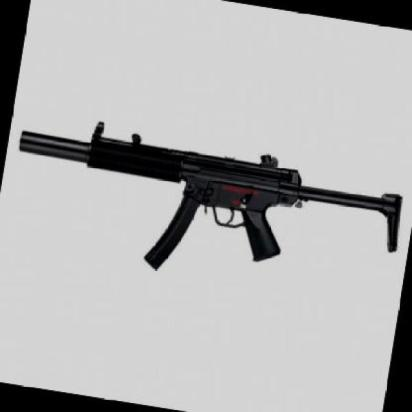Gun: (0, 85, 412, 307)
